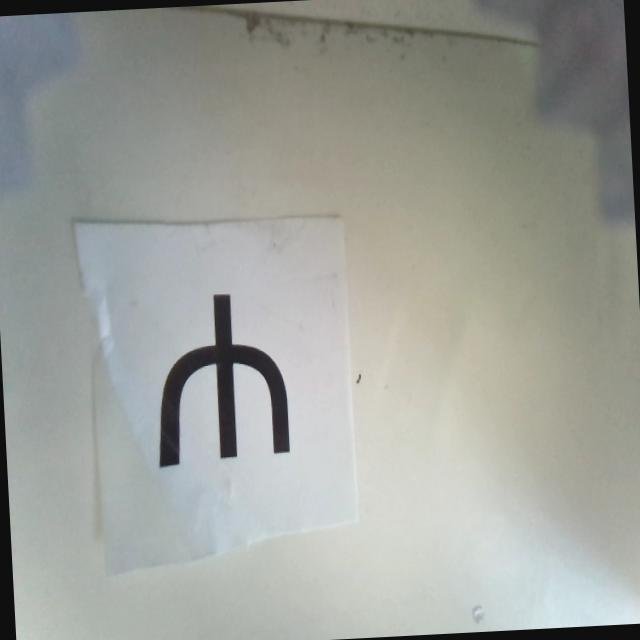nedoF: (149, 288, 294, 466)
